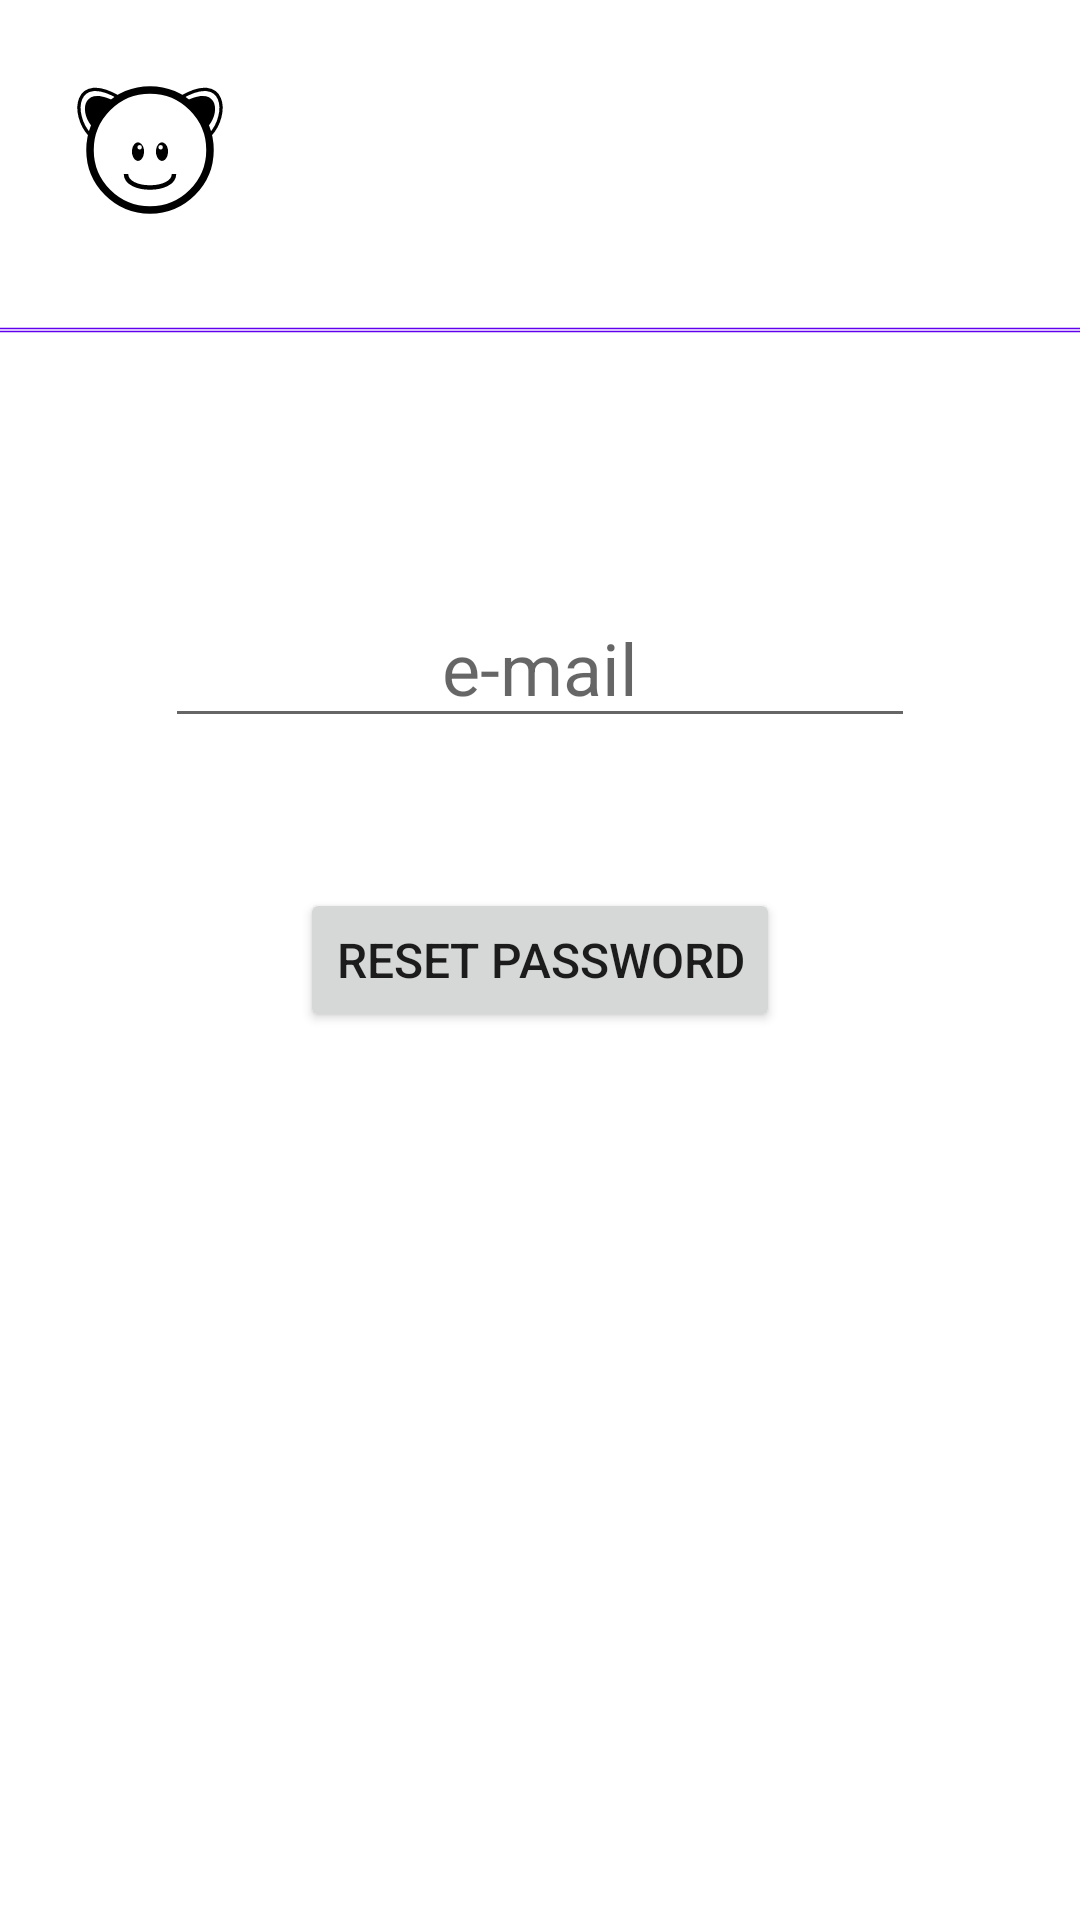

Icons on this 1080 × 1920 Android screen, each with its box as [x1,y1,x2,y2]:
bear: [77,86,223,214]
